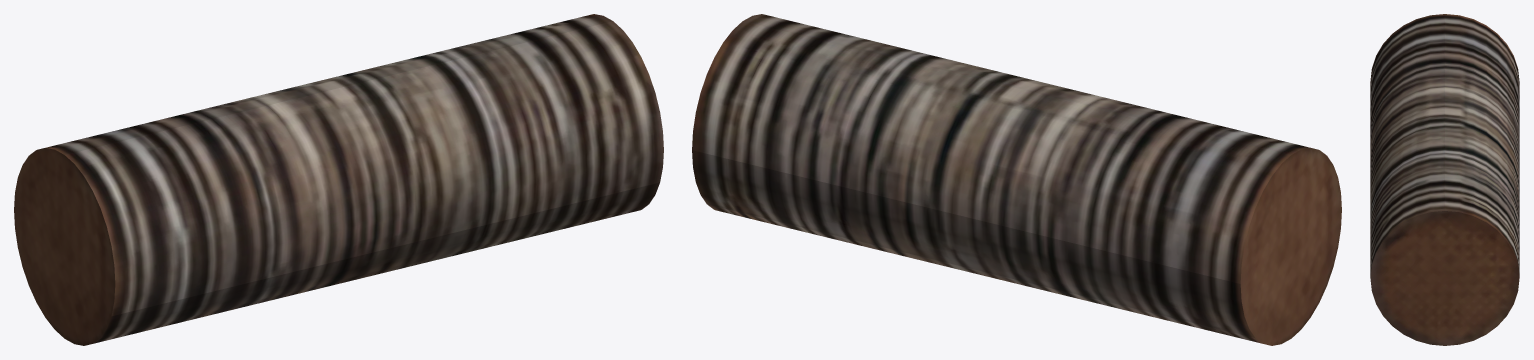
The model's file is grip__grip_sleeve.glb.
3 views of the same model, side by side, from view 1: azimuth 30°, elevation 25°; view 2: azimuth 150°, elevation 25°; view 3: azimuth 270°, elevation 25° (orthographic). The views are drawn at different scales.
Visible parts, largest first — view 1: geometry_0; view 2: geometry_0; view 3: geometry_0.
Boxes of the visible parts, left/top/right/bottom form: geometry_0: left=14, top=14, right=663, bottom=345; geometry_0: left=692, top=14, right=1341, bottom=345; geometry_0: left=1370, top=14, right=1519, bottom=345.
Bounding box in the file's own units: 0.15 × 0.048 × 0.048.
Materials: 1 (1 with a texture image).
